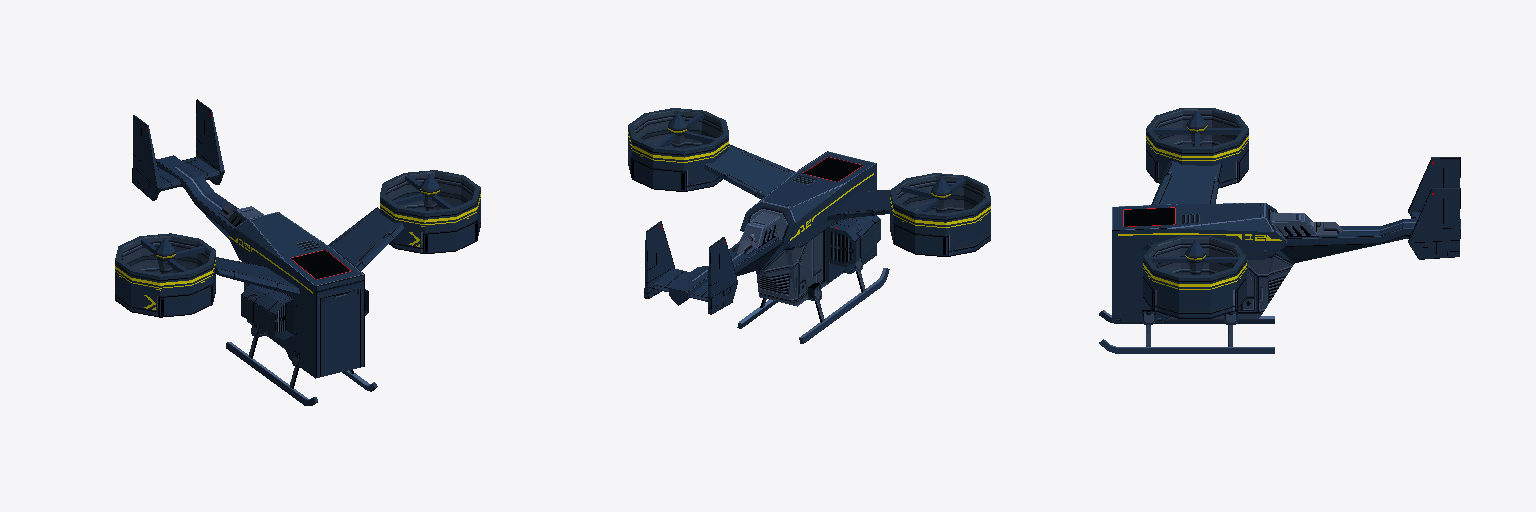
3 renders of one model, left to right at view 1: azimuth 30°, elevation 25°; view 2: azimuth 150°, elevation 25°; view 3: azimuth 270°, elevation 25°, orthographic.
Parts seen in each view (by area): view 1: PoliceDrone; view 2: PoliceDrone; view 3: PoliceDrone.
Boxes of the visible parts, box(x1,y1,x2,y2) form: PoliceDrone: box(115, 99, 480, 405); PoliceDrone: box(628, 108, 990, 343); PoliceDrone: box(1099, 108, 1460, 353).
Bounding box in the file's own units: 8.57 × 3.89 × 7.72.
Materials: 1 (1 with a texture image).